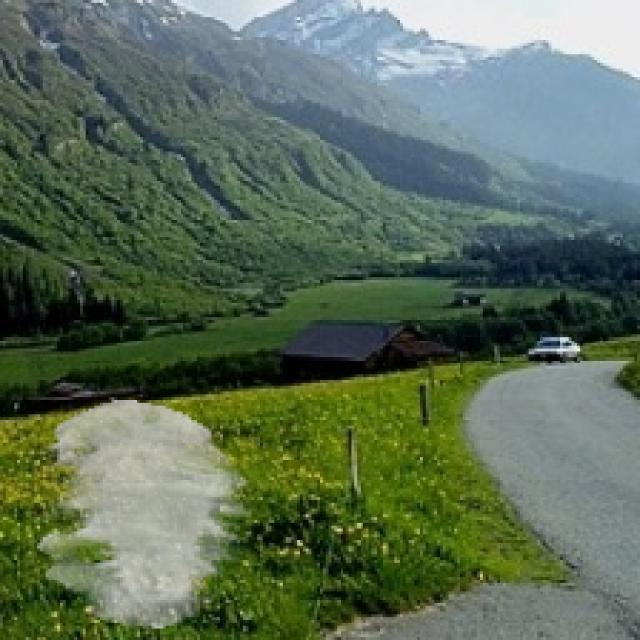Smoke: (38, 401, 252, 628)
